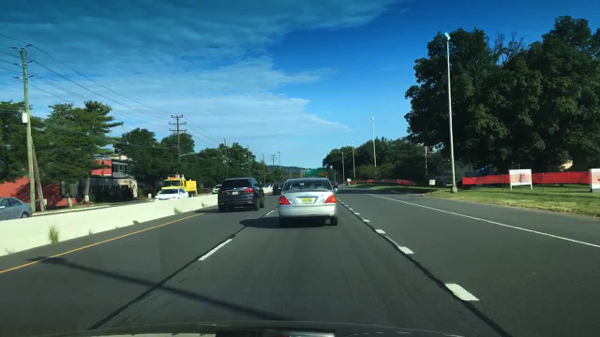car: (276, 176, 339, 227), (216, 176, 266, 213), (0, 196, 35, 222), (152, 188, 191, 203), (271, 181, 286, 196), (210, 184, 222, 194), (329, 179, 339, 189), (261, 182, 269, 188), (265, 183, 271, 188), (270, 183, 276, 188)
traffic sign: (316, 167, 335, 176), (304, 169, 319, 176)
truck: (160, 172, 198, 197)
